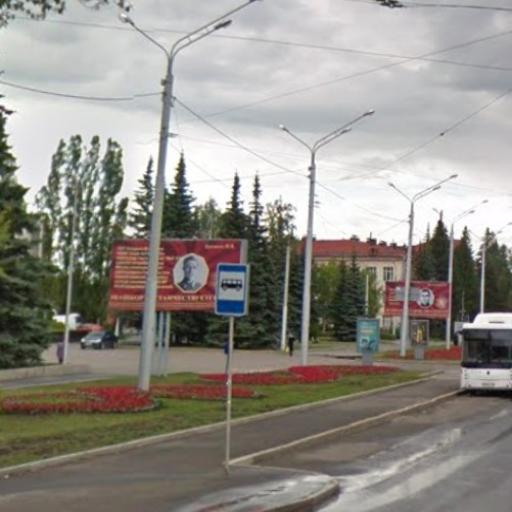traffic_sign: (215, 262, 251, 319)
